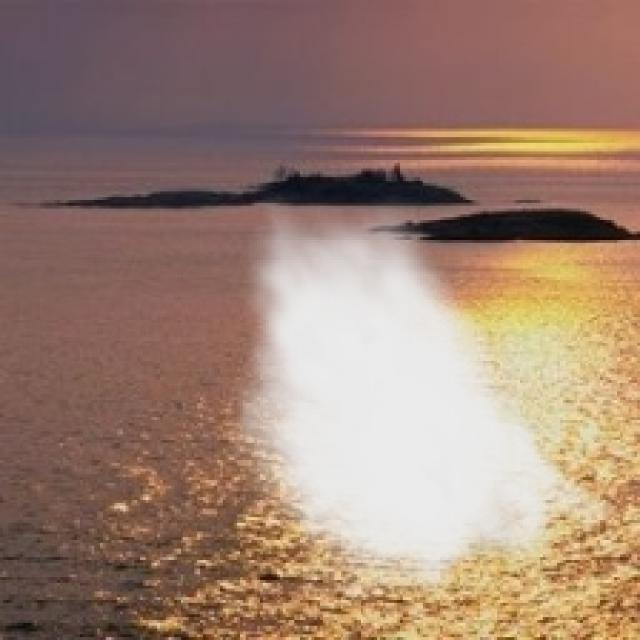smoke: (226, 192, 628, 608)
